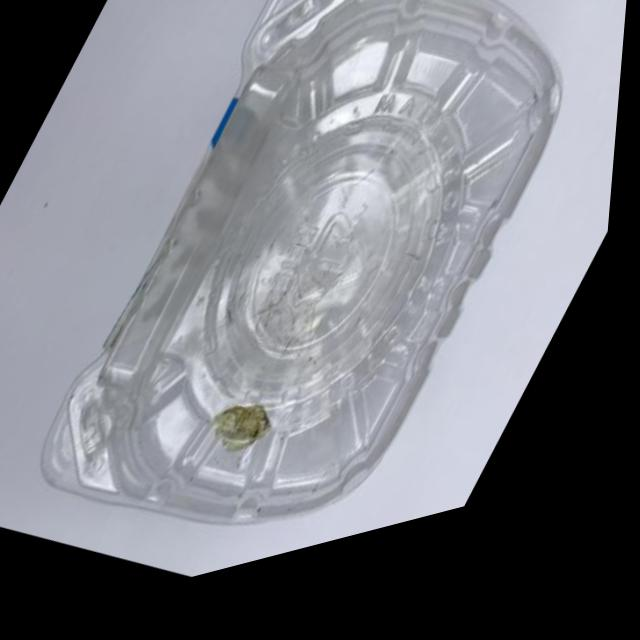plastic: (0, 0, 640, 634)
